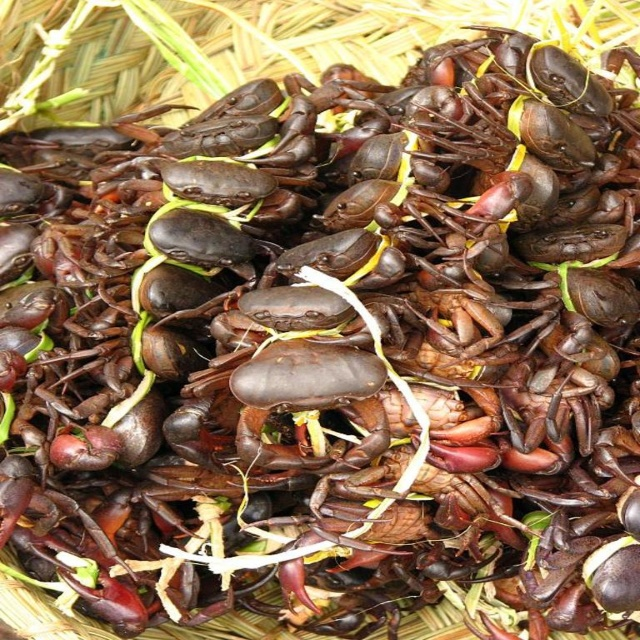Crab: (0, 26, 640, 637)
